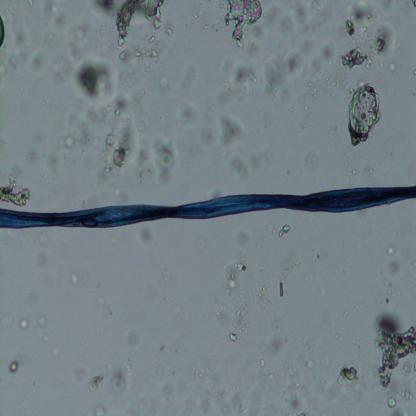Background material: (82, 96, 176, 180), (227, 340, 312, 415), (120, 362, 229, 416), (27, 0, 90, 83), (91, 0, 172, 58), (46, 100, 100, 166), (220, 254, 256, 344), (377, 309, 416, 392), (343, 2, 390, 70), (176, 83, 218, 148), (268, 0, 330, 43), (218, 50, 262, 108), (347, 76, 382, 148), (219, 0, 264, 51), (71, 56, 117, 103), (263, 47, 309, 93), (226, 146, 272, 182), (314, 43, 342, 91), (0, 33, 30, 77), (100, 359, 135, 396), (0, 172, 31, 208), (216, 114, 248, 147), (381, 241, 406, 279), (310, 373, 340, 403), (31, 312, 50, 346), (338, 361, 361, 389), (225, 227, 252, 249), (374, 286, 398, 307), (298, 150, 319, 172), (282, 249, 301, 272), (134, 224, 158, 242), (189, 7, 207, 29), (97, 293, 111, 321), (69, 271, 91, 288), (126, 325, 143, 347), (257, 283, 271, 309), (88, 373, 106, 391), (317, 277, 329, 302), (110, 186, 126, 204), (278, 268, 286, 300), (49, 345, 63, 361), (25, 148, 38, 165), (305, 83, 318, 100), (0, 16, 7, 47), (158, 73, 172, 88), (384, 396, 399, 410), (194, 236, 205, 255), (92, 402, 107, 415), (8, 358, 20, 374), (159, 267, 171, 283), (38, 230, 50, 245), (278, 224, 290, 239), (36, 254, 47, 269), (18, 316, 29, 331), (107, 231, 118, 245), (341, 306, 351, 321), (172, 302, 180, 319), (386, 60, 396, 73), (266, 222, 276, 234), (332, 332, 340, 343), (42, 171, 48, 182), (411, 0, 416, 10), (257, 264, 263, 272), (321, 253, 328, 259), (413, 67, 416, 79)
Cotton: (0, 182, 416, 230)
